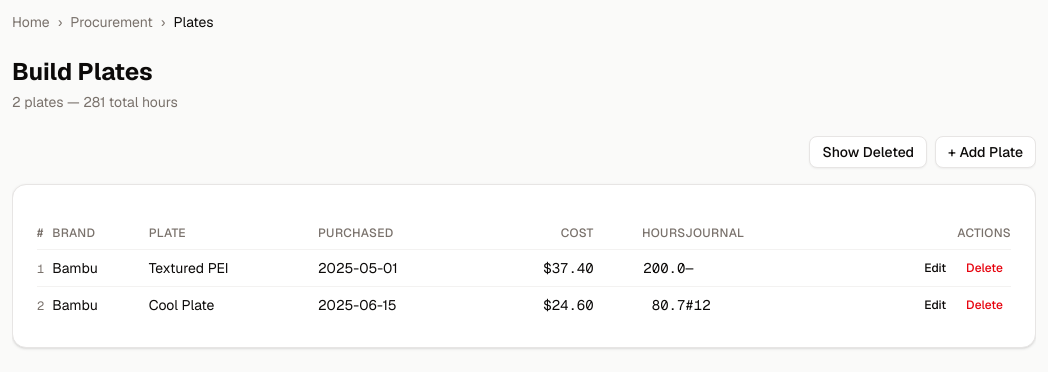
PlatesPage › renders the edit form with fromItem conversion (no journalId)
Click the button "Edit" in the row of "Textured PEI".
click(935, 268)  # box [916,256,954,280]
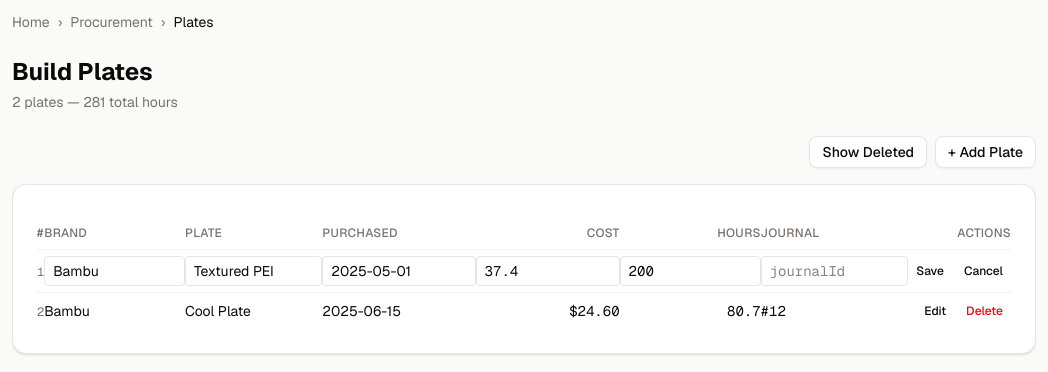
Result: the 1st field is shown at [44,256,185,286]
